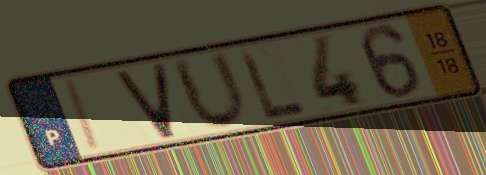4: (310, 31, 368, 110)
6: (357, 22, 424, 101)
I: (63, 76, 106, 154)
L: (235, 46, 310, 123)
U: (166, 47, 252, 133)
V: (111, 59, 180, 143)
